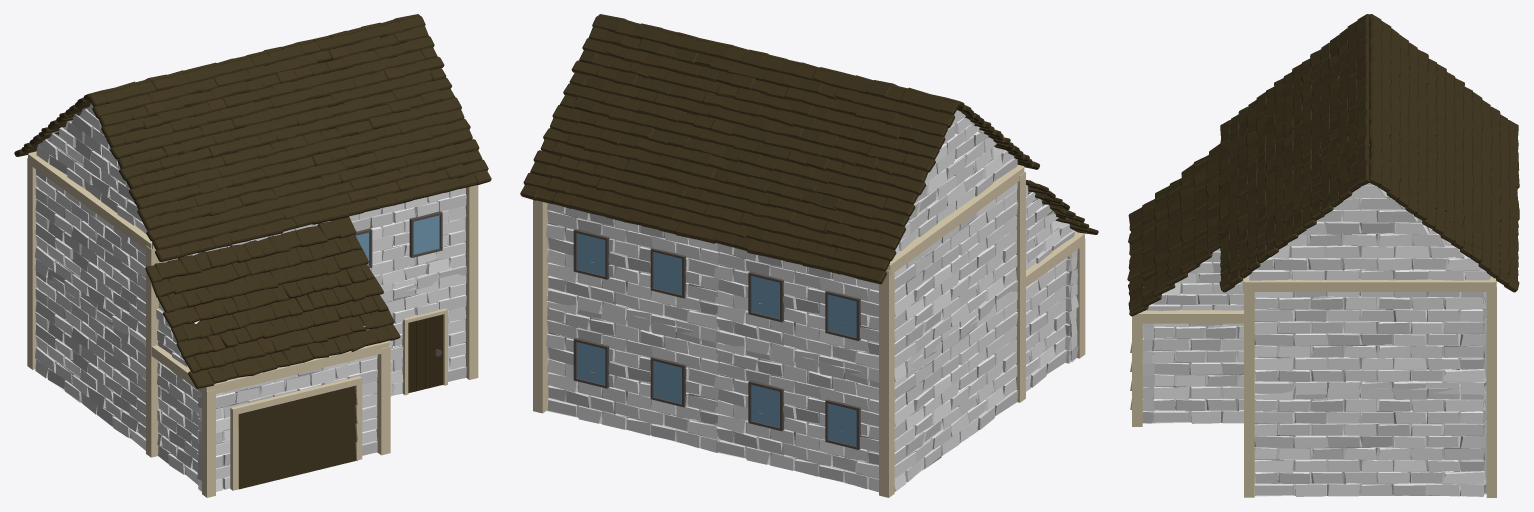
File: HouseDOverwrite.fbx
The picture shows the model from 3 angles, left to right: view 1: azimuth 30°, elevation 25°; view 2: azimuth 150°, elevation 25°; view 3: azimuth 270°, elevation 25°; orthographic projection. The views are drawn at different scales.
Visible parts, largest first — view 1: Plane.005, Plane.002, Cube.026, Cube.031, Cube.039, Cube.037, Cube.025, Cube.051, Cube.014, Cube.010, Cylinder, Cube.021 (+12 smaller); view 2: Plane.005, Cube.024, Cube.012, Cube.026, Cube.038, Cube.039, Cube.042, Cube.051, Cube.010, Cube.021, Cube.048, Cube.007 (+17 smaller); view 3: Plane.005, Cube.027, Cube.040, Cube.049, Plane.002, Cube.028, Cube.022, Cube.030, Cube.023, Cube.025, Cube.011, Cube.005 (+3 smaller).
Part boxes in pixels (box(x1,y1,x2,y2)): Plane.005: box(14, 14, 491, 261); Plane.002: box(145, 217, 400, 388); Cube.026: box(35, 263, 145, 450); Cube.031: box(230, 376, 362, 490); Cube.039: box(35, 169, 145, 347); Cube.037: box(311, 187, 466, 294); Cube.025: box(197, 354, 377, 491); Cube.051: box(36, 103, 147, 234); Cube.014: box(380, 268, 466, 396); Cube.010: box(157, 362, 201, 484); Cylinder: box(398, 308, 447, 395); Cube.021: box(28, 153, 151, 249); Plane.005: box(520, 14, 1039, 284); Cube.024: box(546, 295, 725, 452); Cube.012: box(714, 342, 878, 492); Cube.026: box(894, 291, 1018, 491); Cube.038: box(546, 203, 725, 343); Cube.039: box(894, 183, 1017, 381); Cube.042: box(714, 243, 878, 382); Cube.051: box(895, 110, 1017, 255); Cube.010: box(1026, 251, 1068, 391); Cube.021: box(889, 167, 1024, 275); Cube.048: box(1026, 185, 1074, 269); Cube.007: box(879, 380, 894, 497); Plane.005: box(1219, 14, 1519, 292); Cube.027: box(1254, 386, 1486, 496); Cube.040: box(1254, 292, 1486, 394); Cube.049: box(1247, 183, 1490, 280); Plane.002: box(1127, 142, 1221, 316); Cube.028: box(1151, 323, 1243, 423); Cube.022: box(1245, 278, 1495, 291); Cube.030: box(1143, 248, 1243, 310); Cube.023: box(1132, 309, 1243, 323); Cube.025: box(1142, 323, 1155, 423); Cube.011: box(1132, 314, 1142, 426); Cube.005: box(1244, 390, 1254, 497).
Bounding box in the file's own units: 644 × 572 × 629.
